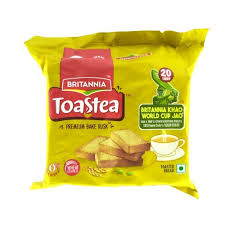Britania-toast-small: (31, 32, 203, 190)
